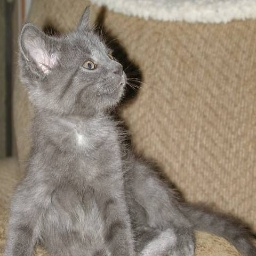cat: (7, 9, 204, 256)
